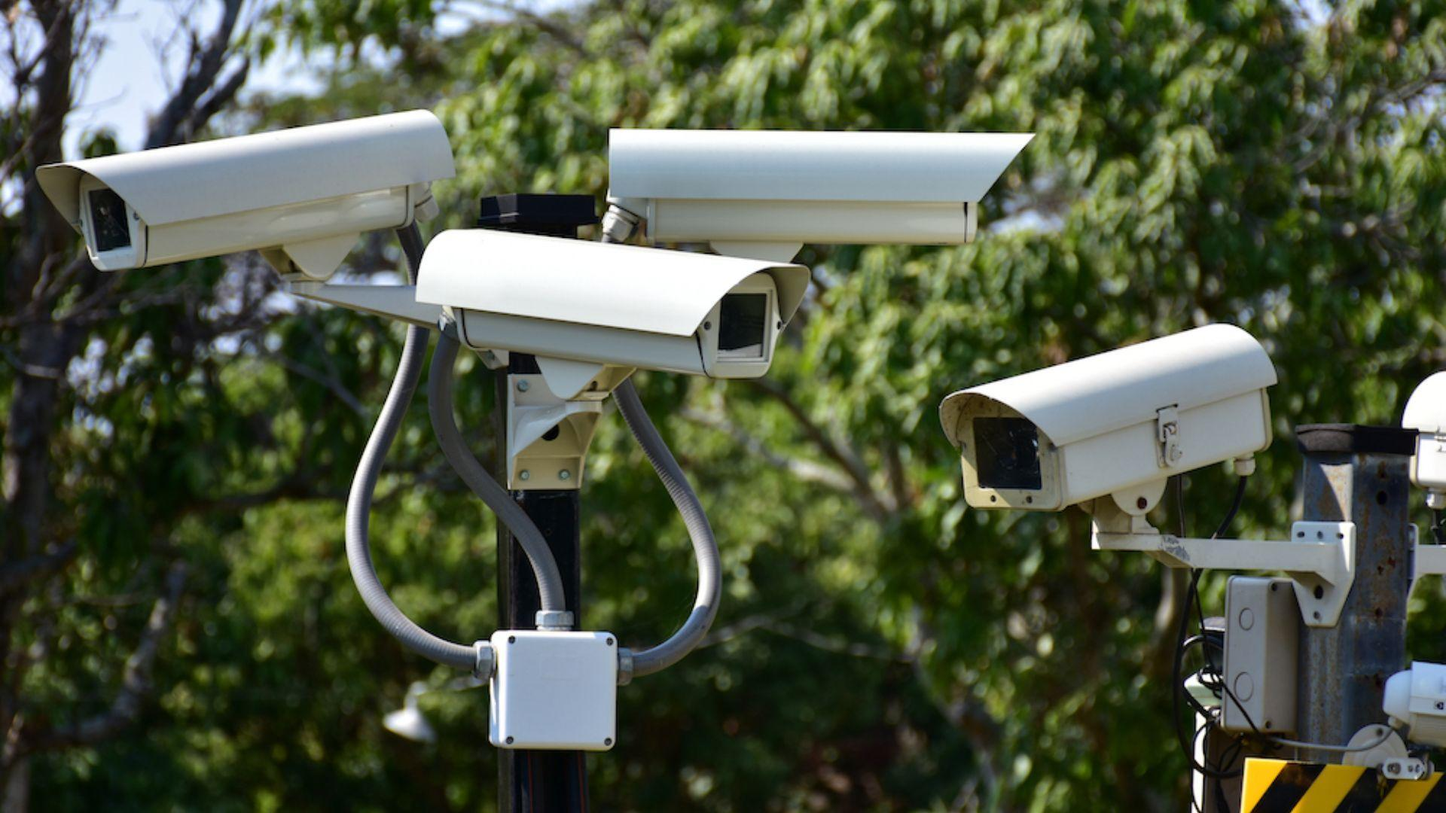Monitor: (583, 74, 1098, 301), (387, 202, 789, 398), (34, 107, 456, 280), (938, 321, 1278, 522)
